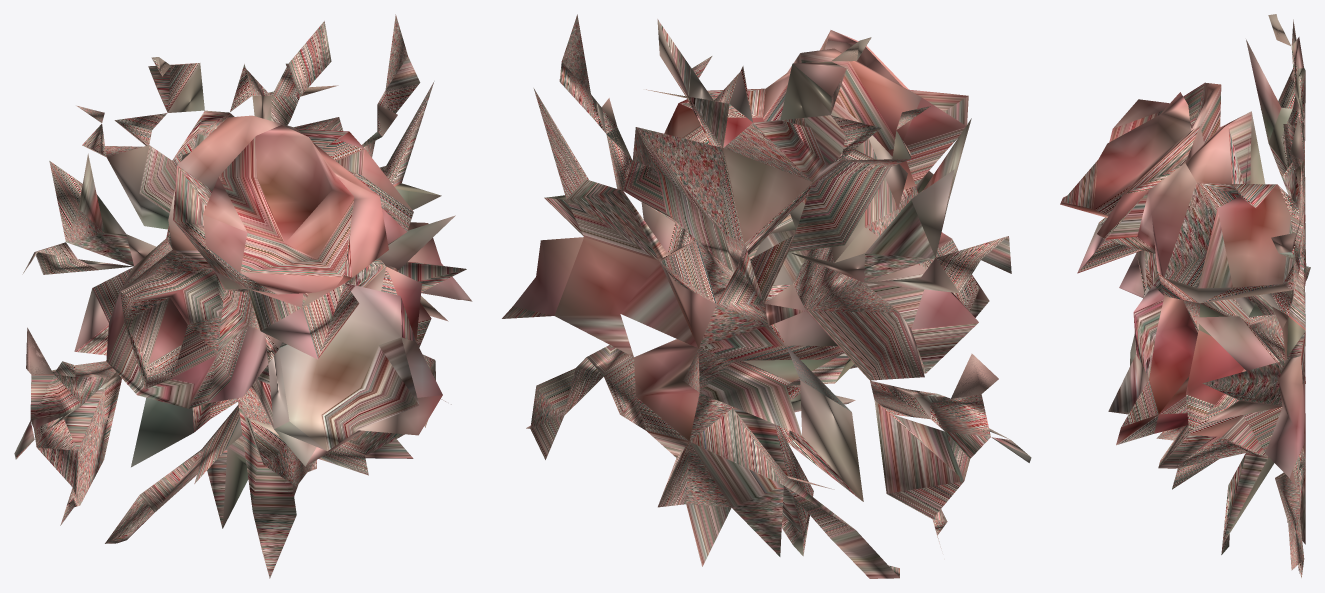
The picture shows the model from 3 angles, left to right: view 1: azimuth 30°, elevation 25°; view 2: azimuth 150°, elevation 25°; view 3: azimuth 270°, elevation 25°; orthographic projection. The views are drawn at different scales.
Visible parts, largest first — view 1: Rose-Bouquet-10-14; view 2: Rose-Bouquet-10-14; view 3: Rose-Bouquet-10-14.
Part boxes in pixels (x1,y1,x2,y2): Rose-Bouquet-10-14: [14, 14, 472, 578]; Rose-Bouquet-10-14: [502, 14, 1031, 578]; Rose-Bouquet-10-14: [1060, 14, 1310, 577].
Bounding box in the file's own units: 0.2746 × 0.2889 × 0.1315.
Materials: 1 (1 with a texture image).
